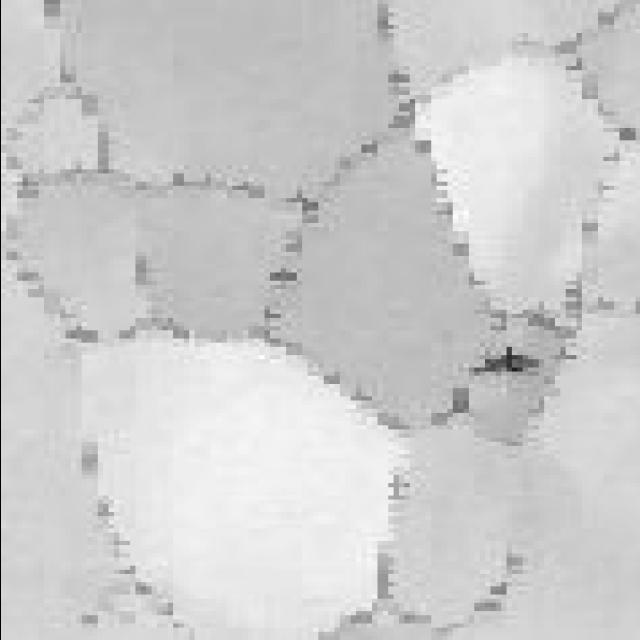good_void: (465, 345, 543, 379)
